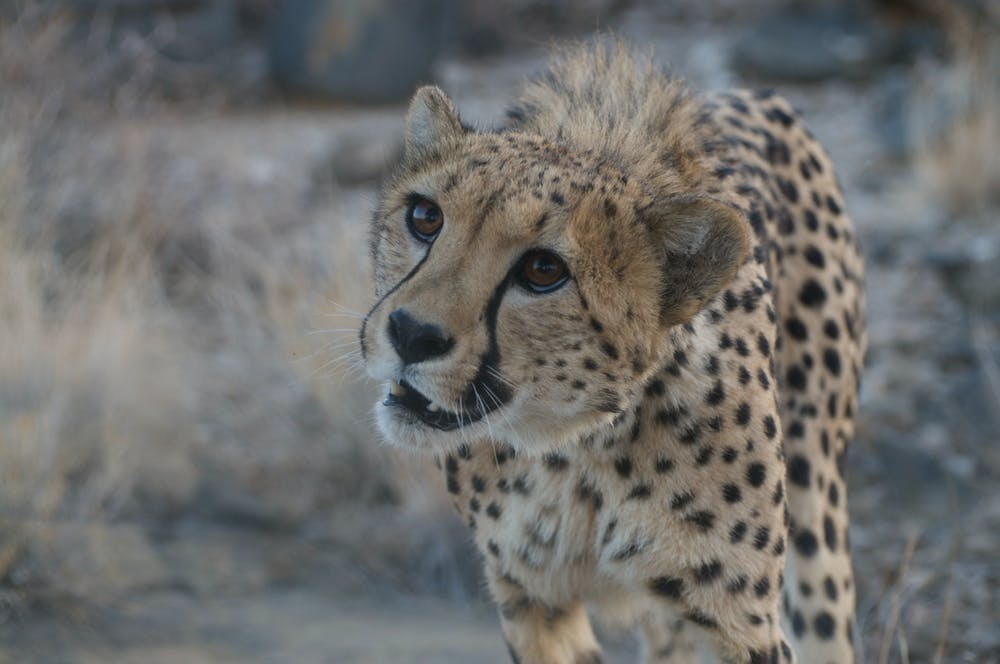cheetah: (332, 73, 761, 472)
